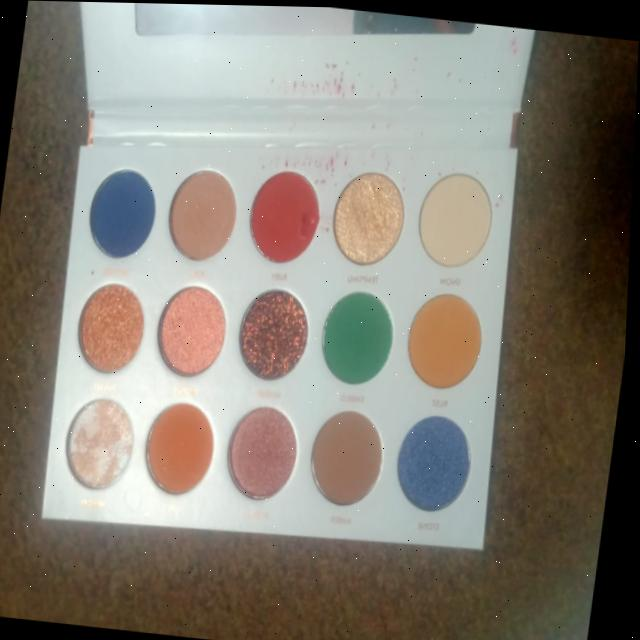eye shade: (208, 133, 347, 516), (373, 156, 516, 524), (287, 150, 427, 521), (125, 130, 262, 509), (51, 153, 178, 502)
